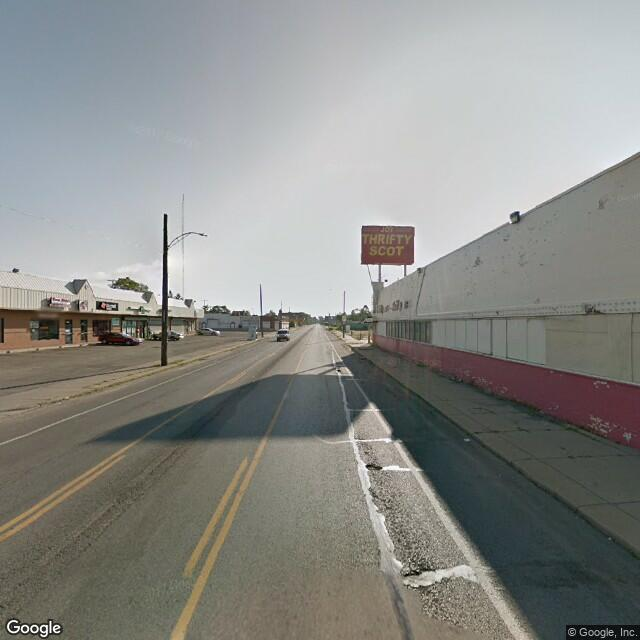litter: (461, 435, 474, 445), (605, 534, 612, 543)
